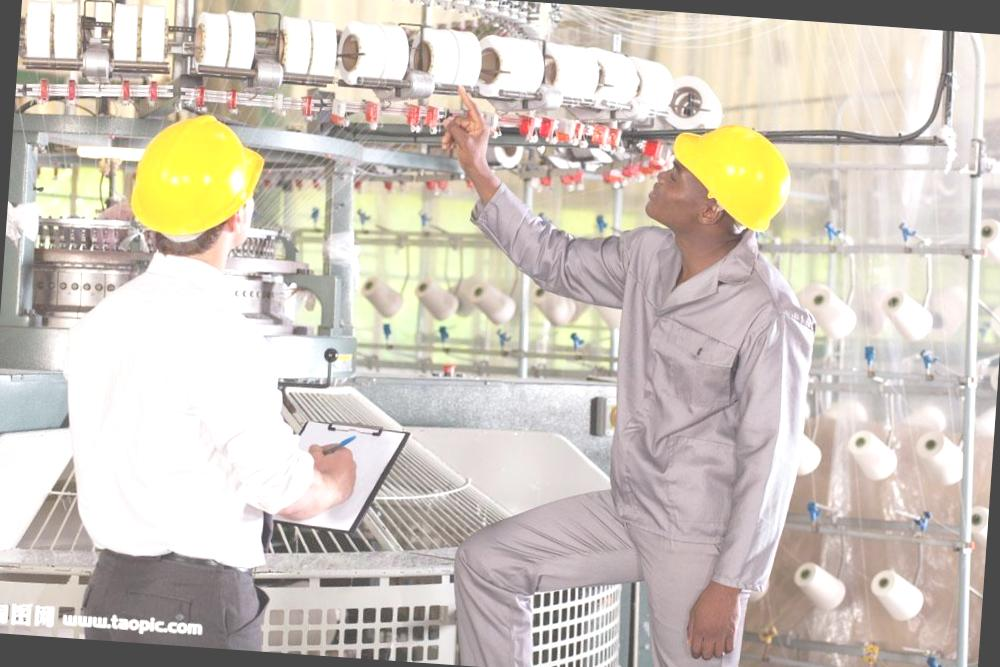helmet: (122, 107, 272, 252), (661, 120, 802, 242)
no_vest: (66, 231, 287, 575), (589, 230, 800, 570)
person: (475, 100, 833, 667), (39, 98, 324, 653)
